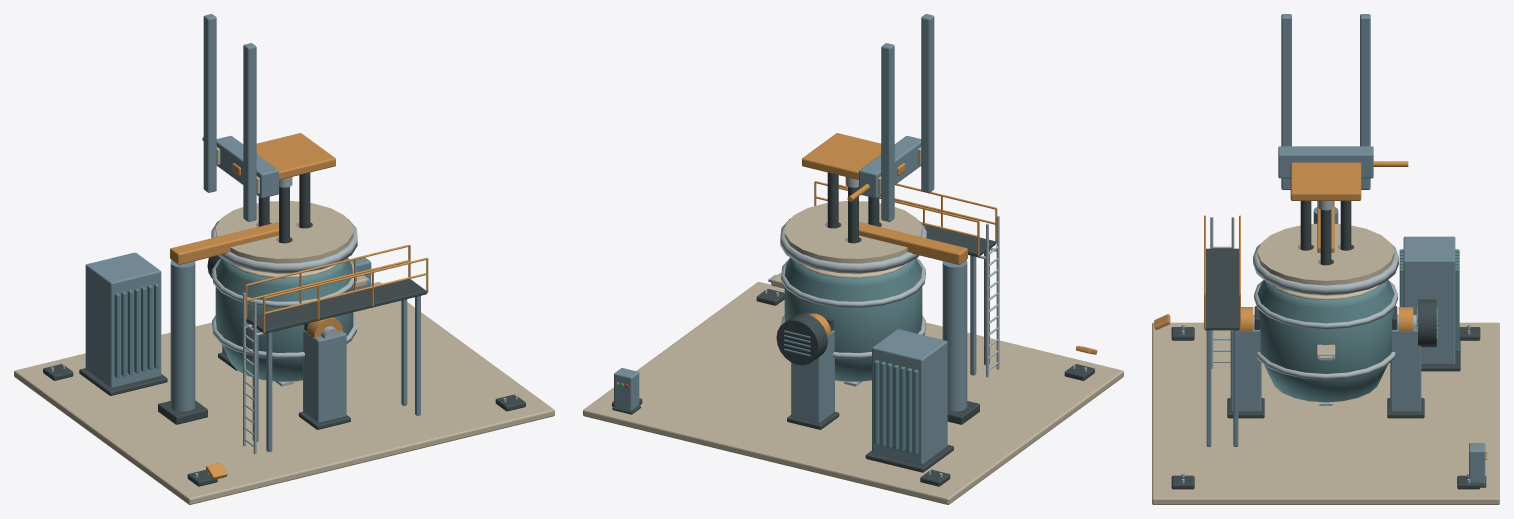
File: STS-HR-02-lod1.glb
The picture shows the model from 3 angles, left to right: view 1: azimuth 30°, elevation 25°; view 2: azimuth 150°, elevation 25°; view 3: azimuth 270°, elevation 25°; orthographic projection.
Visible parts, largest first — view 1: foundation, refractory_vessel, transformer_cabinet, roof_shell, roof_pivot_column, far_pedestal, eaf_service_deck, roof_electrode_guide_0.95, roof_electrode_guide_-0.95, electrode_carrier, roof_swing_arm, electrode_slide_carriage (+11 smaller); view 2: foundation, refractory_vessel, transformer_cabinet, roof_shell, roof_pivot_column, near_pedestal, roof_electrode_guide_-0.95, roof_electrode_guide_0.95, electrode_carrier, tilt_gearbox, roof_swing_arm, roof_water_jacket (+7 smaller); view 3: foundation, refractory_vessel, roof_shell, transformer_cabinet, electrode_carrier, eaf_service_deck, near_pedestal, far_pedestal, electrode_slide_carriage, roof_water_jacket, roof_electrode_guide_-0.95, roof_electrode_guide_0.95 (+12 smaller).
Part boxes in pixels (left/top/right/bottom): foundation: left=14, top=282, right=554, bottom=504; refractory_vessel: left=215, top=258, right=353, bottom=381; transformer_cabinet: left=85, top=252, right=161, bottom=388; roof_shell: left=215, top=201, right=353, bottom=263; roof_pivot_column: left=170, top=260, right=195, bottom=411; far_pedestal: left=303, top=330, right=346, bottom=423; eaf_service_deck: left=246, top=279, right=426, bottom=333; roof_electrode_guide_0.95: left=243, top=43, right=256, bottom=221; roof_electrode_guide_-0.95: left=203, top=14, right=216, bottom=192; electrode_carrier: left=256, top=133, right=335, bottom=179; roof_swing_arm: left=170, top=222, right=278, bottom=264; electrode_slide_carriage: left=216, top=135, right=278, bottom=198; foundation: left=583, top=282, right=1123, bottom=504; refractory_vessel: left=784, top=258, right=922, bottom=381; transformer_cabinet: left=872, top=329, right=947, bottom=465; roof_shell: left=784, top=201, right=922, bottom=263; roof_pivot_column: left=942, top=260, right=967, bottom=411; near_pedestal: left=791, top=330, right=834, bottom=423; roof_electrode_guide_-0.95: left=881, top=43, right=894, bottom=221; roof_electrode_guide_0.95: left=921, top=14, right=934, bottom=192; electrode_carrier: left=802, top=133, right=881, bottom=179; tilt_gearbox: left=776, top=313, right=827, bottom=365; roof_swing_arm: left=859, top=222, right=967, bottom=264; roof_water_jacket: left=780, top=218, right=926, bottom=273; foundation: left=1152, top=322, right=1499, bottom=504; refractory_vessel: left=1257, top=280, right=1394, bottom=402; roof_shell: left=1257, top=223, right=1394, bottom=285; transformer_cabinet: left=1403, top=236, right=1455, bottom=364; electrode_carrier: left=1290, top=162, right=1361, bottom=200; eaf_service_deck: left=1205, top=248, right=1239, bottom=330; near_pedestal: left=1390, top=327, right=1421, bottom=412; far_pedestal: left=1230, top=327, right=1261, bottom=412; electrode_slide_carriage: left=1278, top=146, right=1373, bottom=178; roof_water_jacket: left=1253, top=244, right=1398, bottom=295; roof_electrode_guide_-0.95: left=1360, top=14, right=1370, bottom=189; roof_electrode_guide_0.95: left=1281, top=14, right=1291, bottom=189.
Bounding box in the file's own units: 10.1 × 10.02 × 8.4.
